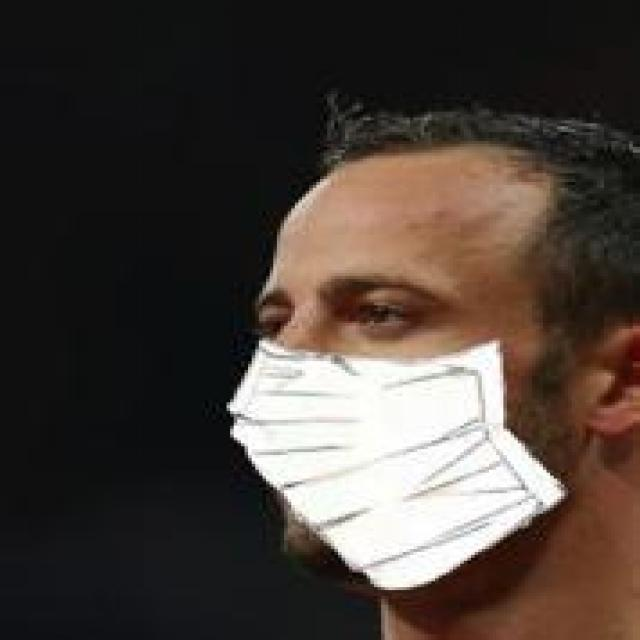mask: (219, 59, 640, 602)
